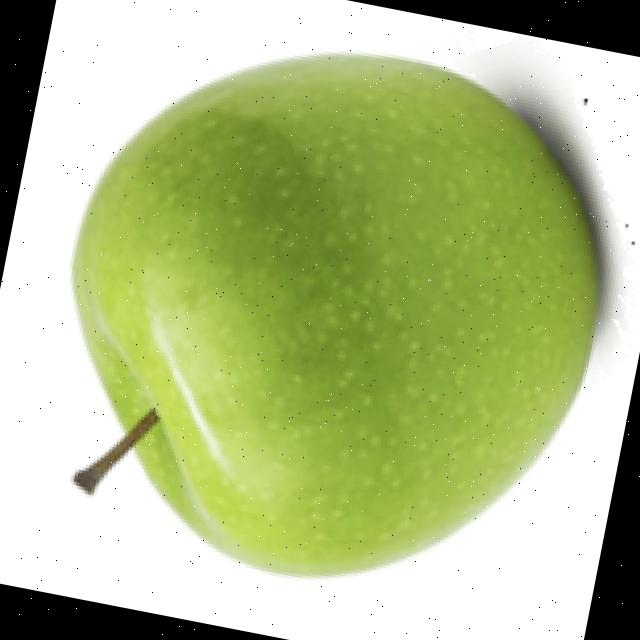apple: (65, 42, 635, 584)
